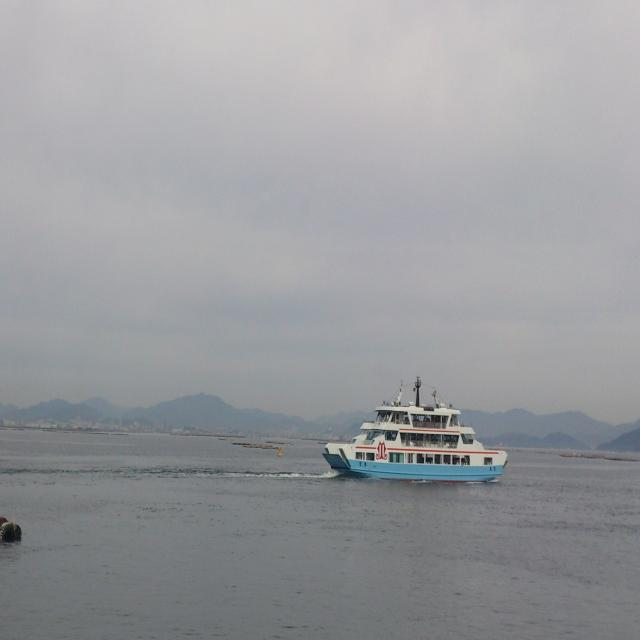passenger ship: (312, 392, 510, 482)
